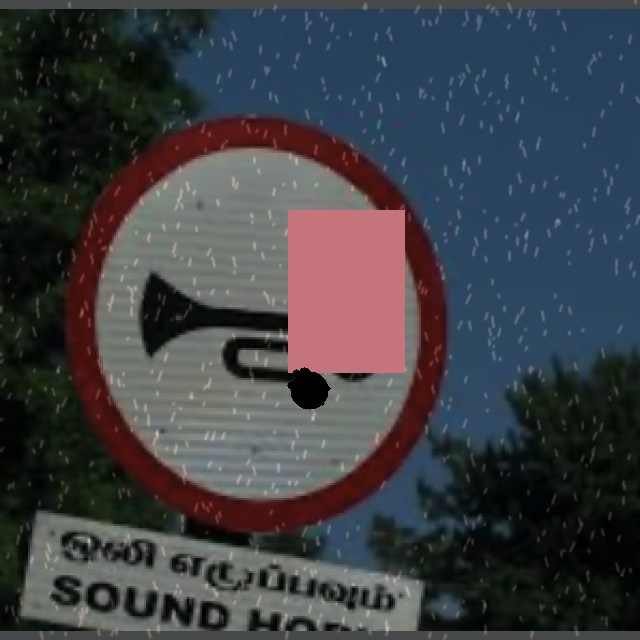Compulsory_Sound_Horn: (94, 130, 446, 499)
